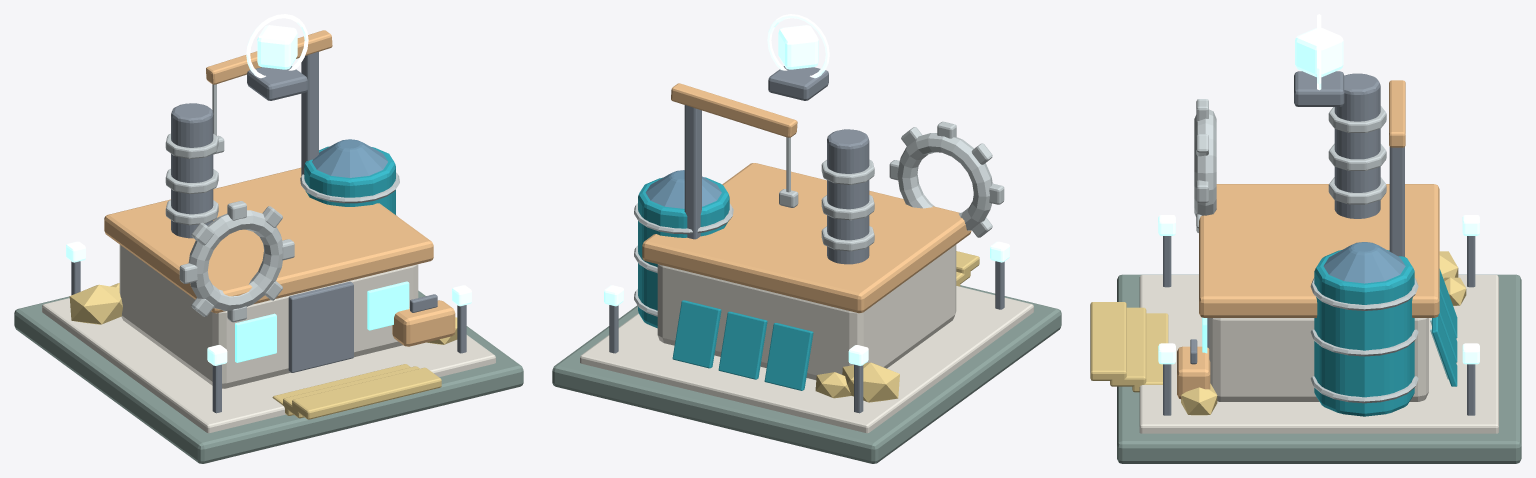
The model's file is 03-automation-workshop.glb.
3 views of the same model, side by side, from view 1: azimuth 30°, elevation 25°; view 2: azimuth 150°, elevation 25°; view 3: azimuth 270°, elevation 25° (orthographic). The views are drawn at different scales.
Visible parts, largest first — view 1: Workshop_Roof, Workshop_Plinth, Workshop_Plaza, Workshop_Main, Workshop_Door, Workshop_MainGear, Workshop_Stack, Workshop_Step_2, Workshop_WaterTank, Workshop_TankTop, Workshop_Toolbox, Workshop_CraneMast (+13 smaller); view 2: Workshop_Roof, Workshop_Plinth, Workshop_Plaza, Workshop_Main, Workshop_Stack, Workshop_MainGear, Workshop_WaterTank, Workshop_CraneBoom, Workshop_Solar_1, Workshop_Solar_2, Workshop_Solar_0, Workshop_CraneMast (+10 smaller); view 3: Workshop_Roof, Workshop_Plaza, Workshop_Plinth, Workshop_WaterTank, Workshop_Main, Workshop_Stack, Workshop_Step_2, Workshop_TankTop, Workshop_BeaconCube, Workshop_Step_1, Workshop_MainGear, Workshop_CraneMast (+19 smaller).
Part boxes in pixels (x1,y1,x2,y2): Workshop_Roof: (104,167,433,313); Workshop_Plinth: (14,290,523,463); Workshop_Plaza: (42,298,495,433); Workshop_Main: (119,245,418,388); Workshop_Door: (288,281,353,372); Workshop_MainGear: (188,210,282,310); Workshop_Stack: (171,103,213,238); Workshop_Step_2: (292,367,441,419); Workshop_WaterTank: (304,146,395,214); Workshop_TankTop: (312,139,387,177); Workshop_Toolbox: (392,300,455,346); Workshop_CraneMast: (301,52,318,175); Workshop_Roof: (642,163,971,313); Workshop_Plinth: (552,285,1061,463); Workshop_Plaza: (580,286,1033,433); Workshop_Main: (657,245,956,379); Workshop_Stack: (827,129,869,264); Workshop_MainGear: (897,133,992,230); Workshop_WaterTank: (638,177,729,328); Workshop_CraneBoom: (671,83,797,137); Workshop_Solar_1: (718,311,767,379); Workshop_Solar_2: (672,300,721,368); Workshop_Solar_0: (764,323,813,390); Workshop_CraneMast: (684,105,701,239); Workshop_Roof: (1199,184,1439,317); Workshop_Plaza: (1139,275,1498,433); Workshop_Plinth: (1117,274,1521,463); Workshop_WaterTank: (1314,250,1414,416); Workshop_Main: (1209,318,1428,401); Workshop_Stack: (1334,73,1380,218); Workshop_Step_2: (1090,302,1126,380); Workshop_TankTop: (1323,242,1405,283); Workshop_BeaconCube: (1295,28,1343,77); Workshop_Step_1: (1110,307,1146,386); Workshop_MainGear: (1194,109,1216,216); Workshop_CraneMast: (1389,147,1404,256).
Bounding box in the file's own units: 5.8 × 5.82 × 6.18.
